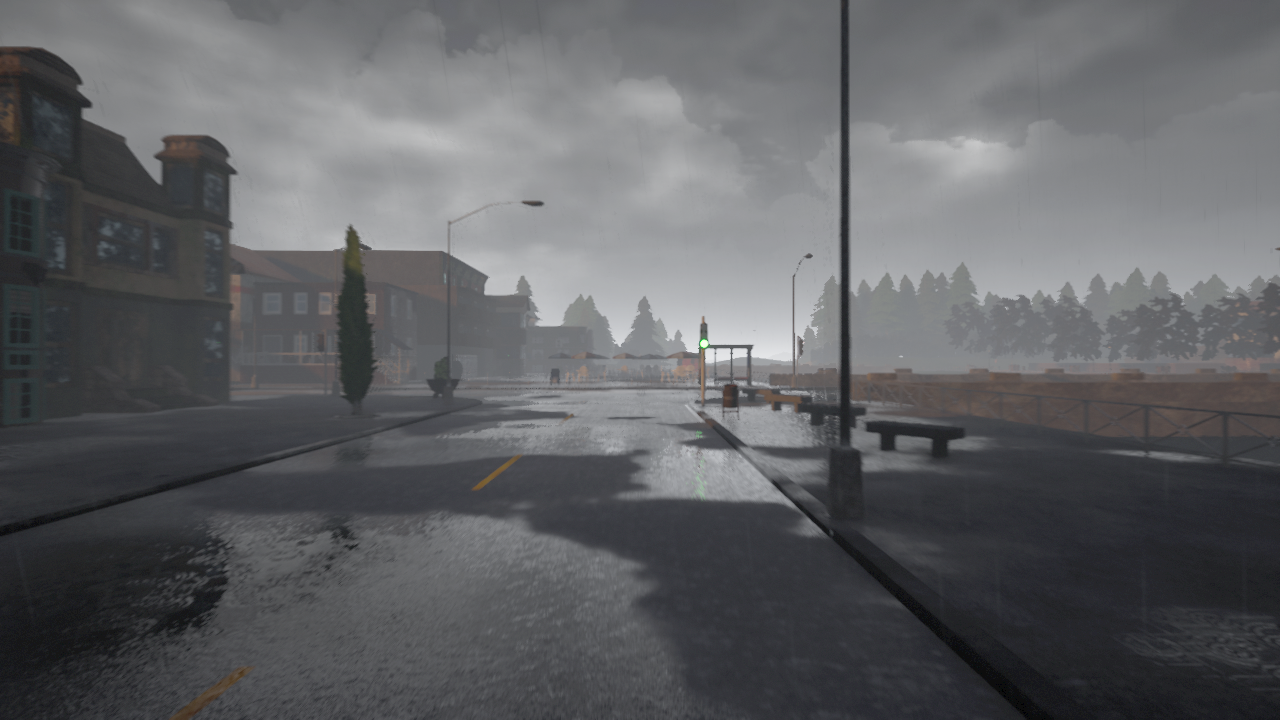green: (698, 322, 709, 348)
